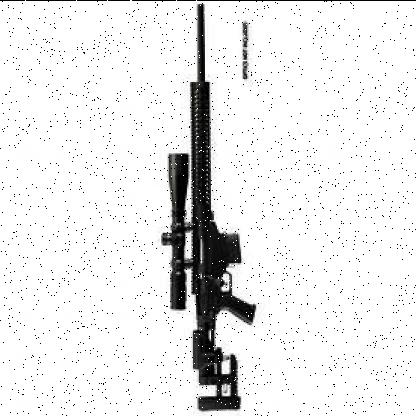rifle: (152, 0, 270, 410)
